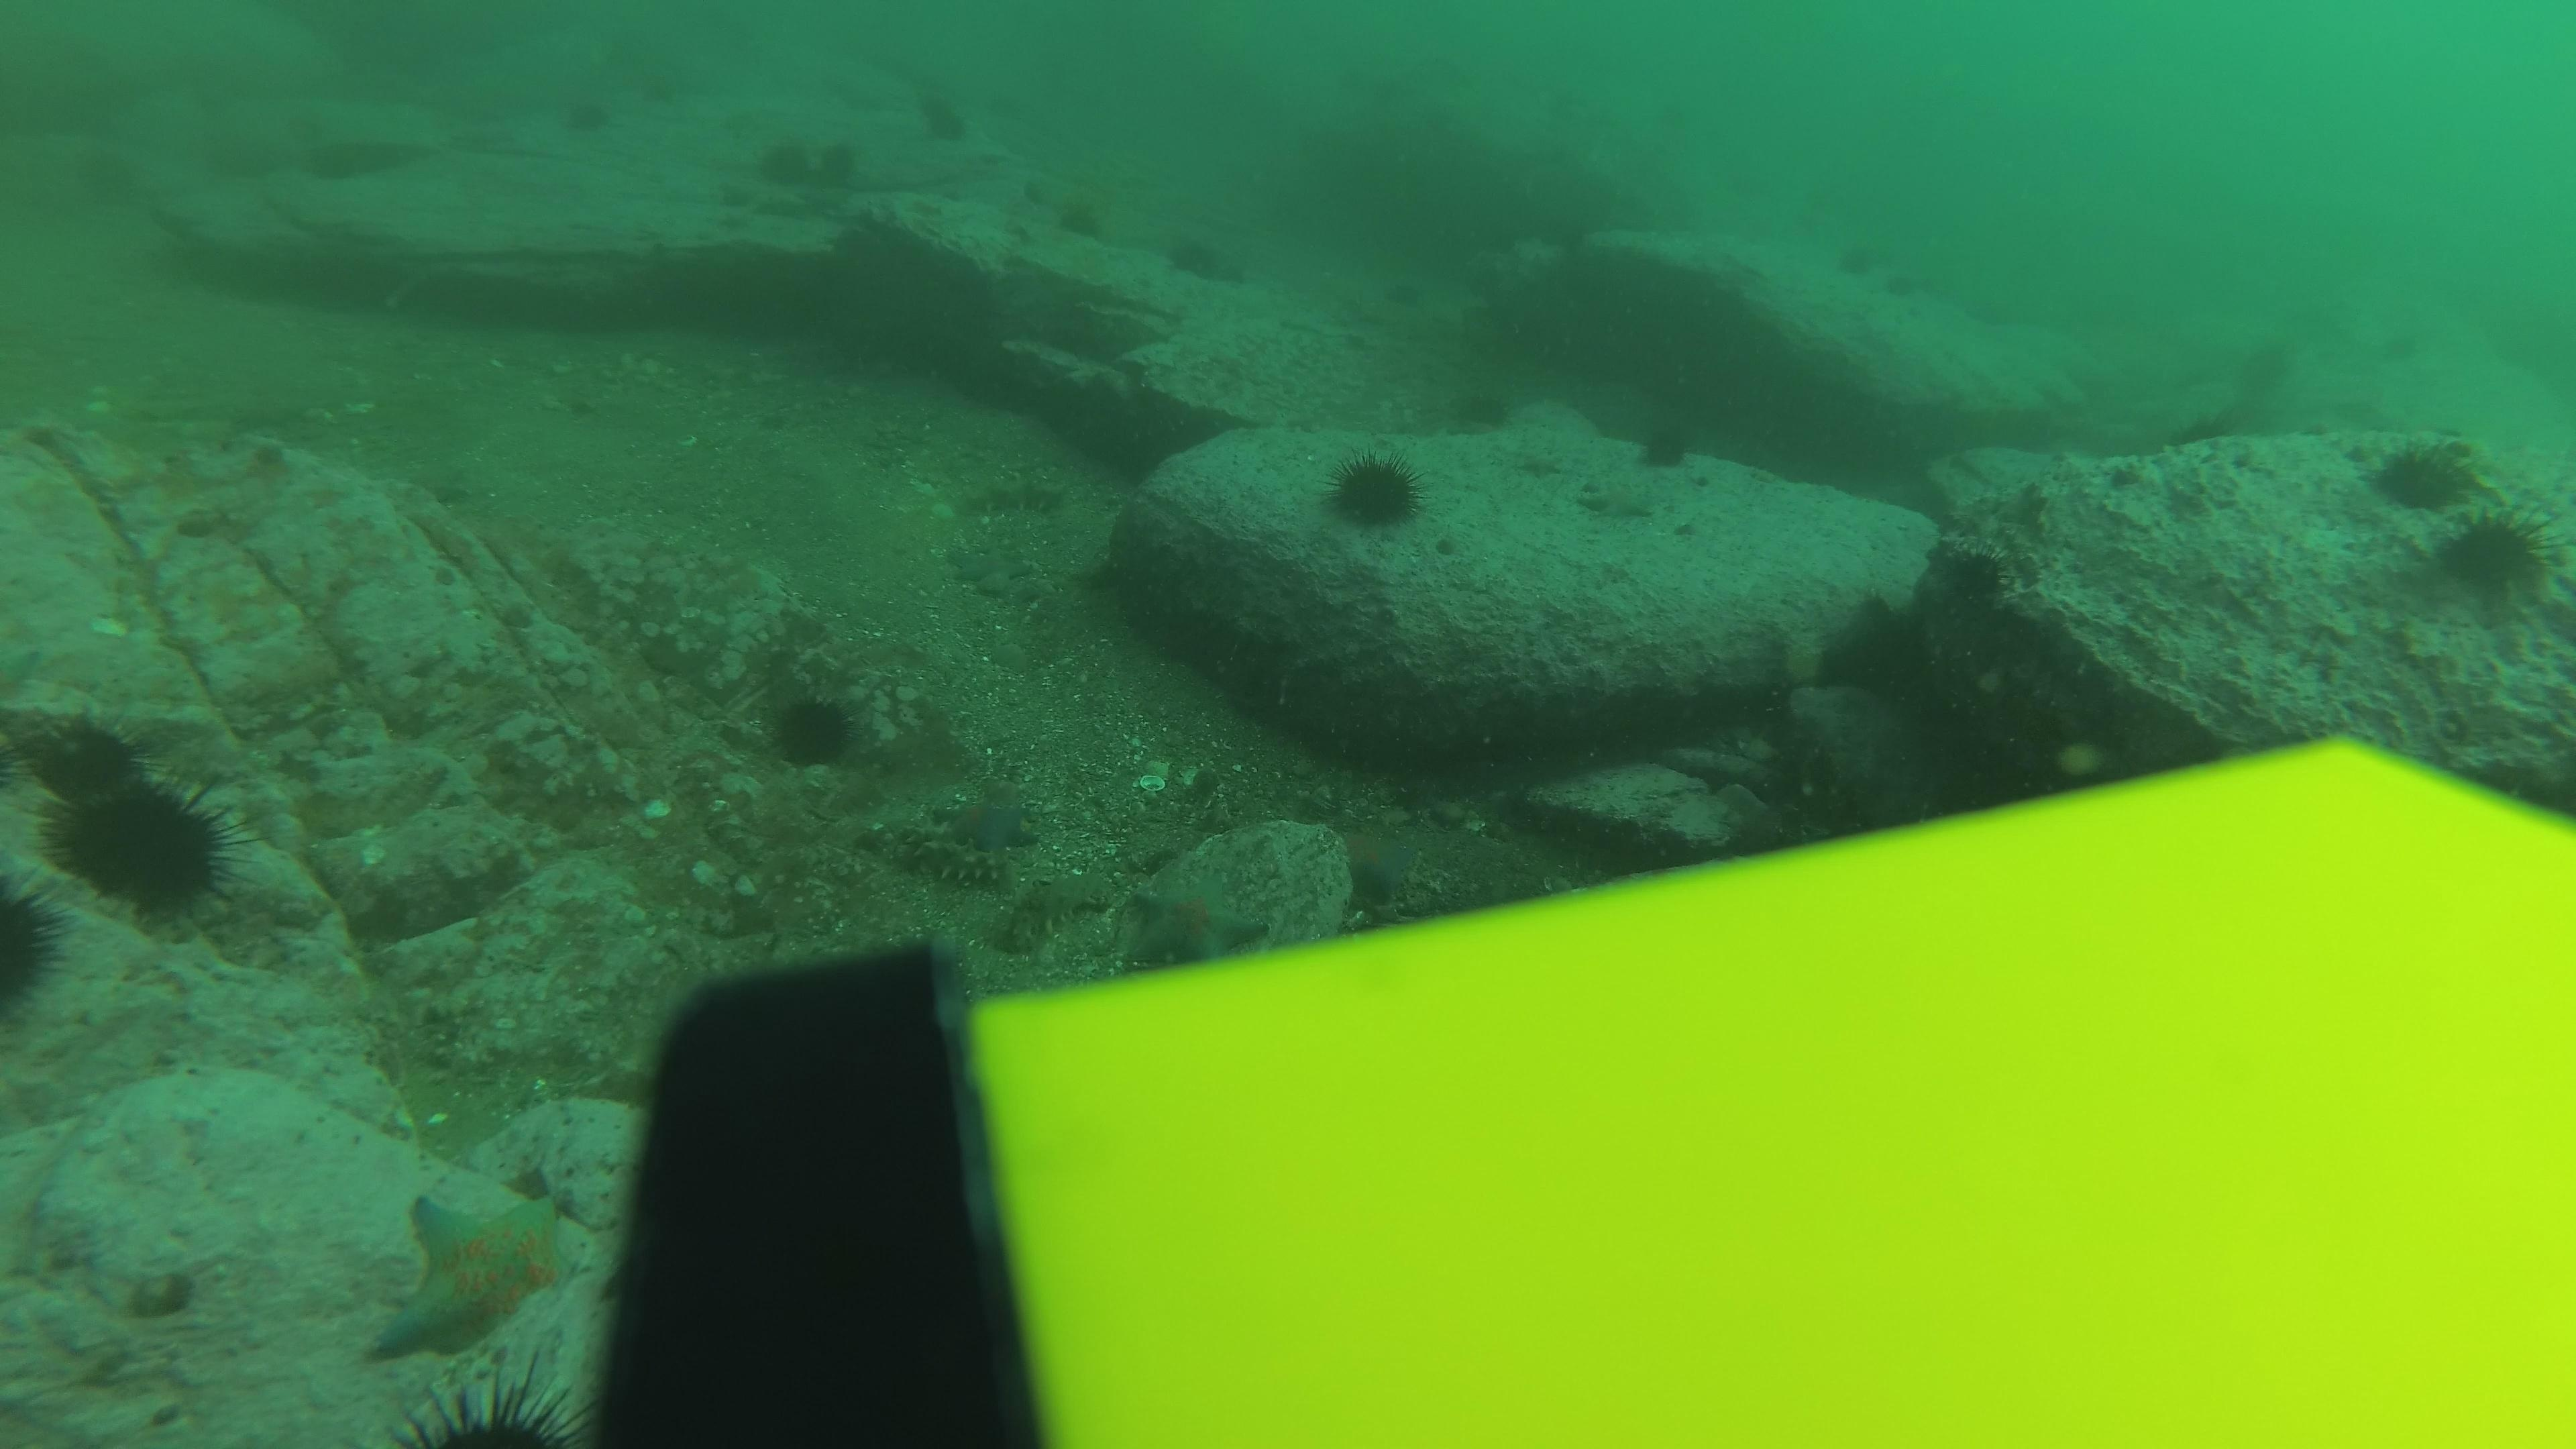echinus: (41, 770, 242, 920), (391, 1364, 598, 1444), (2427, 504, 2557, 609), (2362, 430, 2488, 517), (0, 872, 71, 1024), (1320, 446, 1430, 536), (761, 685, 867, 773), (1628, 414, 1702, 476), (1445, 377, 1522, 437), (810, 127, 869, 188), (561, 94, 619, 154), (750, 138, 809, 196), (632, 76, 679, 117), (1835, 249, 1886, 283), (1175, 242, 1221, 276), (982, 92, 1028, 126), (927, 111, 971, 145), (913, 90, 959, 122), (1047, 202, 1093, 234), (1210, 260, 1256, 292), (1387, 280, 1433, 311), (1010, 177, 1056, 209), (1877, 267, 1913, 303)
holothurian: (982, 874, 1132, 952), (862, 812, 1010, 890), (950, 462, 1088, 533)
starfish: (364, 1180, 589, 1366), (1118, 874, 1274, 970), (1332, 816, 1424, 904), (936, 787, 1042, 856), (1665, 745, 1775, 800), (947, 536, 1040, 600), (1571, 478, 1665, 527)
